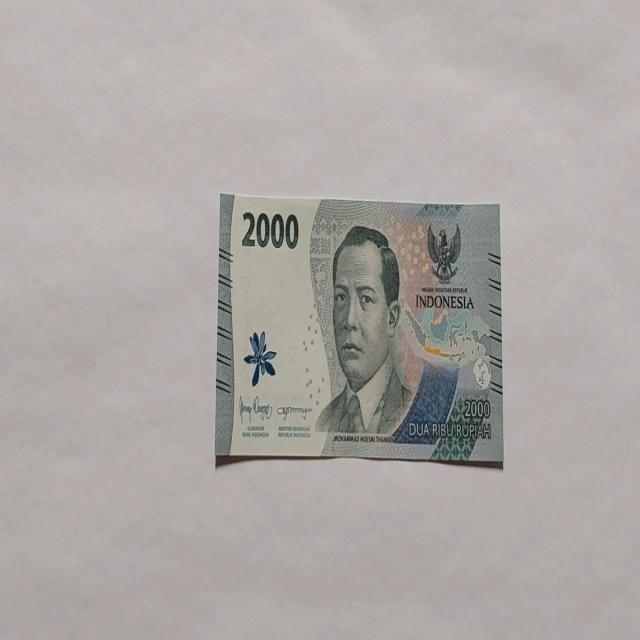dua ribu rupiah: (214, 191, 503, 468), (314, 224, 414, 437)
